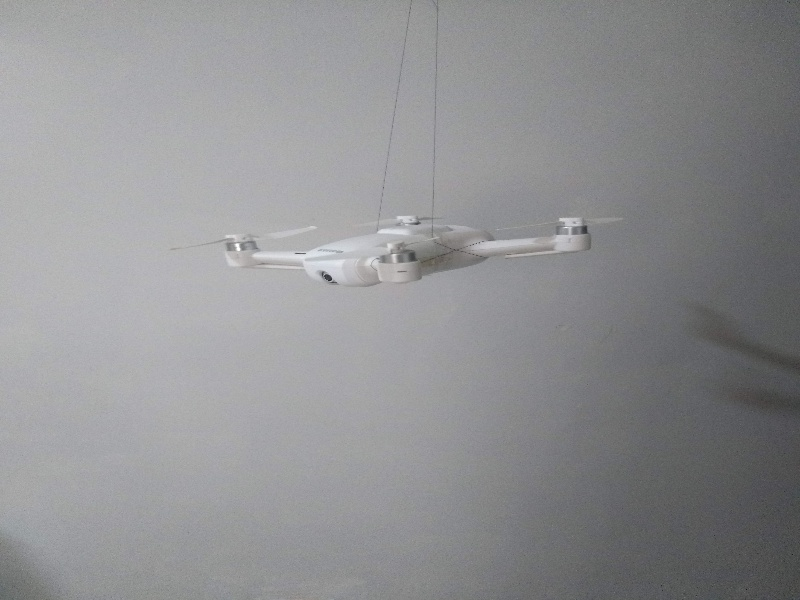drone: (209, 181, 608, 310)
